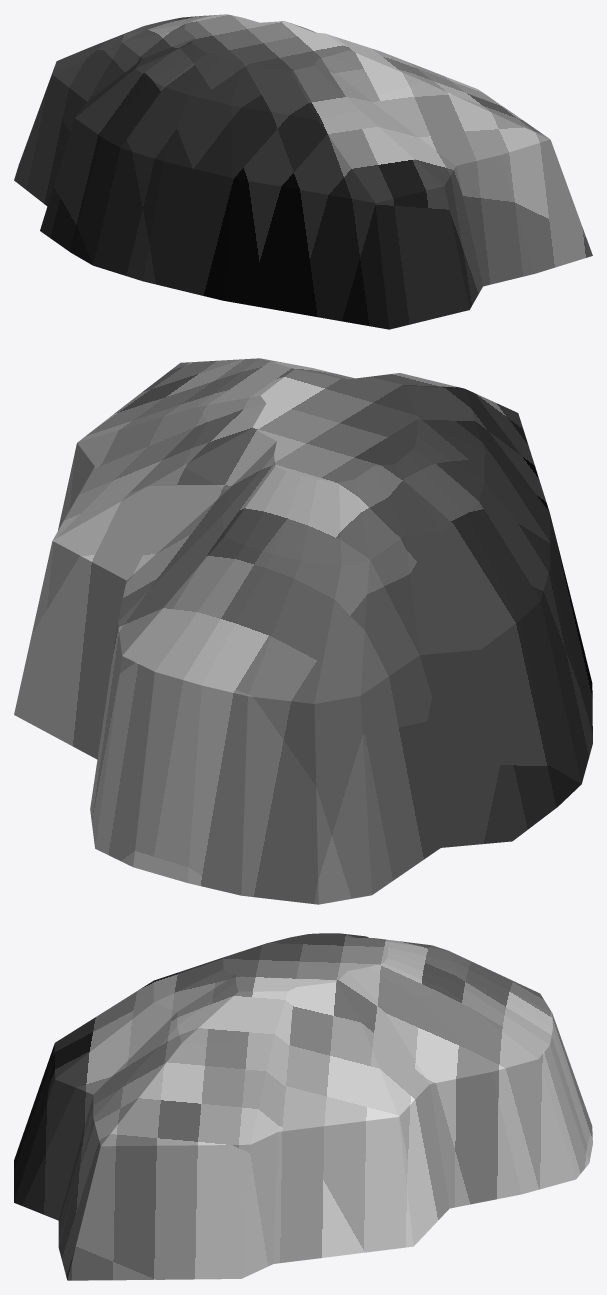
The model's file is rock_331x01.gltf.
The picture shows the model from 3 angles, top to bottom: view 1: azimuth 30°, elevation 25°; view 2: azimuth 150°, elevation 25°; view 3: azimuth 270°, elevation 25°; orthographic projection. The views are drawn at different scales.
Parts seen in each view (by area): view 1: Rock_331x1; view 2: Rock_331x1; view 3: Rock_331x1.
Boxes of the visible parts, <box> form: Rock_331x1: <box>14,14,592,329</box>; Rock_331x1: <box>14,358,592,904</box>; Rock_331x1: <box>14,933,592,1280</box>.
Size of the model in its own units: 0.9411 by 0.4337 by 1.12.
Materials: 1 (1 with a texture image).
